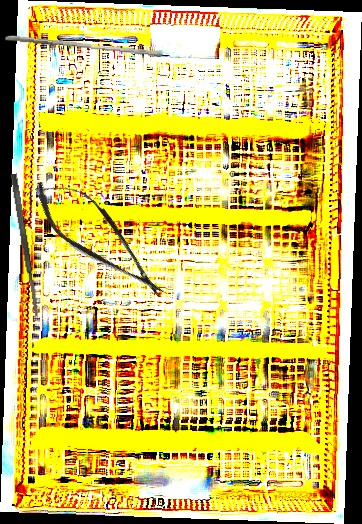Micro Scissor: (22, 165, 179, 313)
Pusher: (4, 34, 164, 58)
Spatula Surgical: (9, 173, 41, 317)
